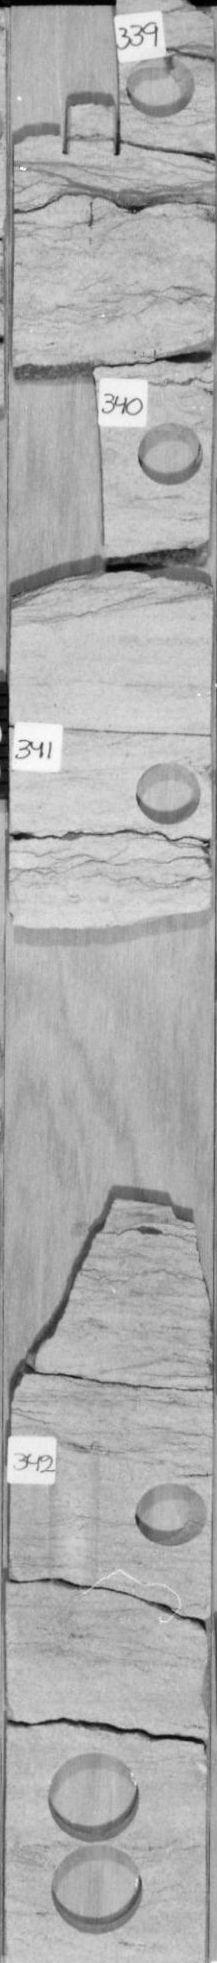hplug: (127, 1474, 214, 1556), (129, 752, 209, 828), (133, 417, 213, 488)
scal: (45, 1843, 146, 1940), (43, 1751, 146, 1843)
vplug: (49, 1, 129, 160), (41, 1441, 115, 1592)
